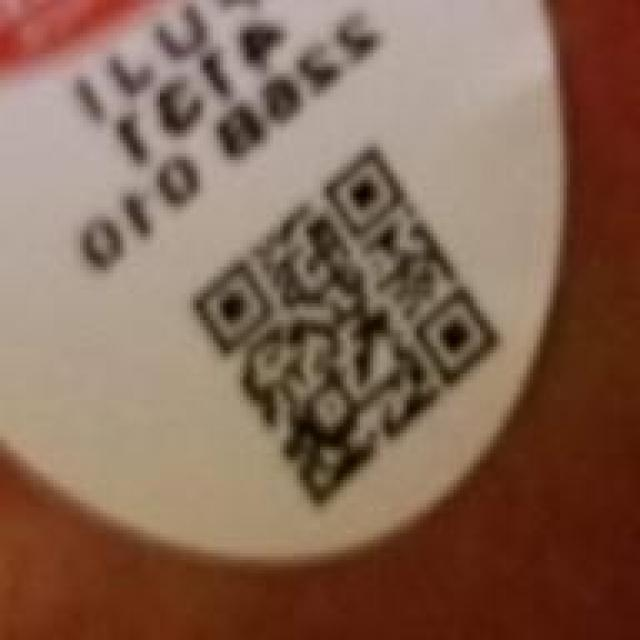qr_code: (191, 146, 501, 507)
